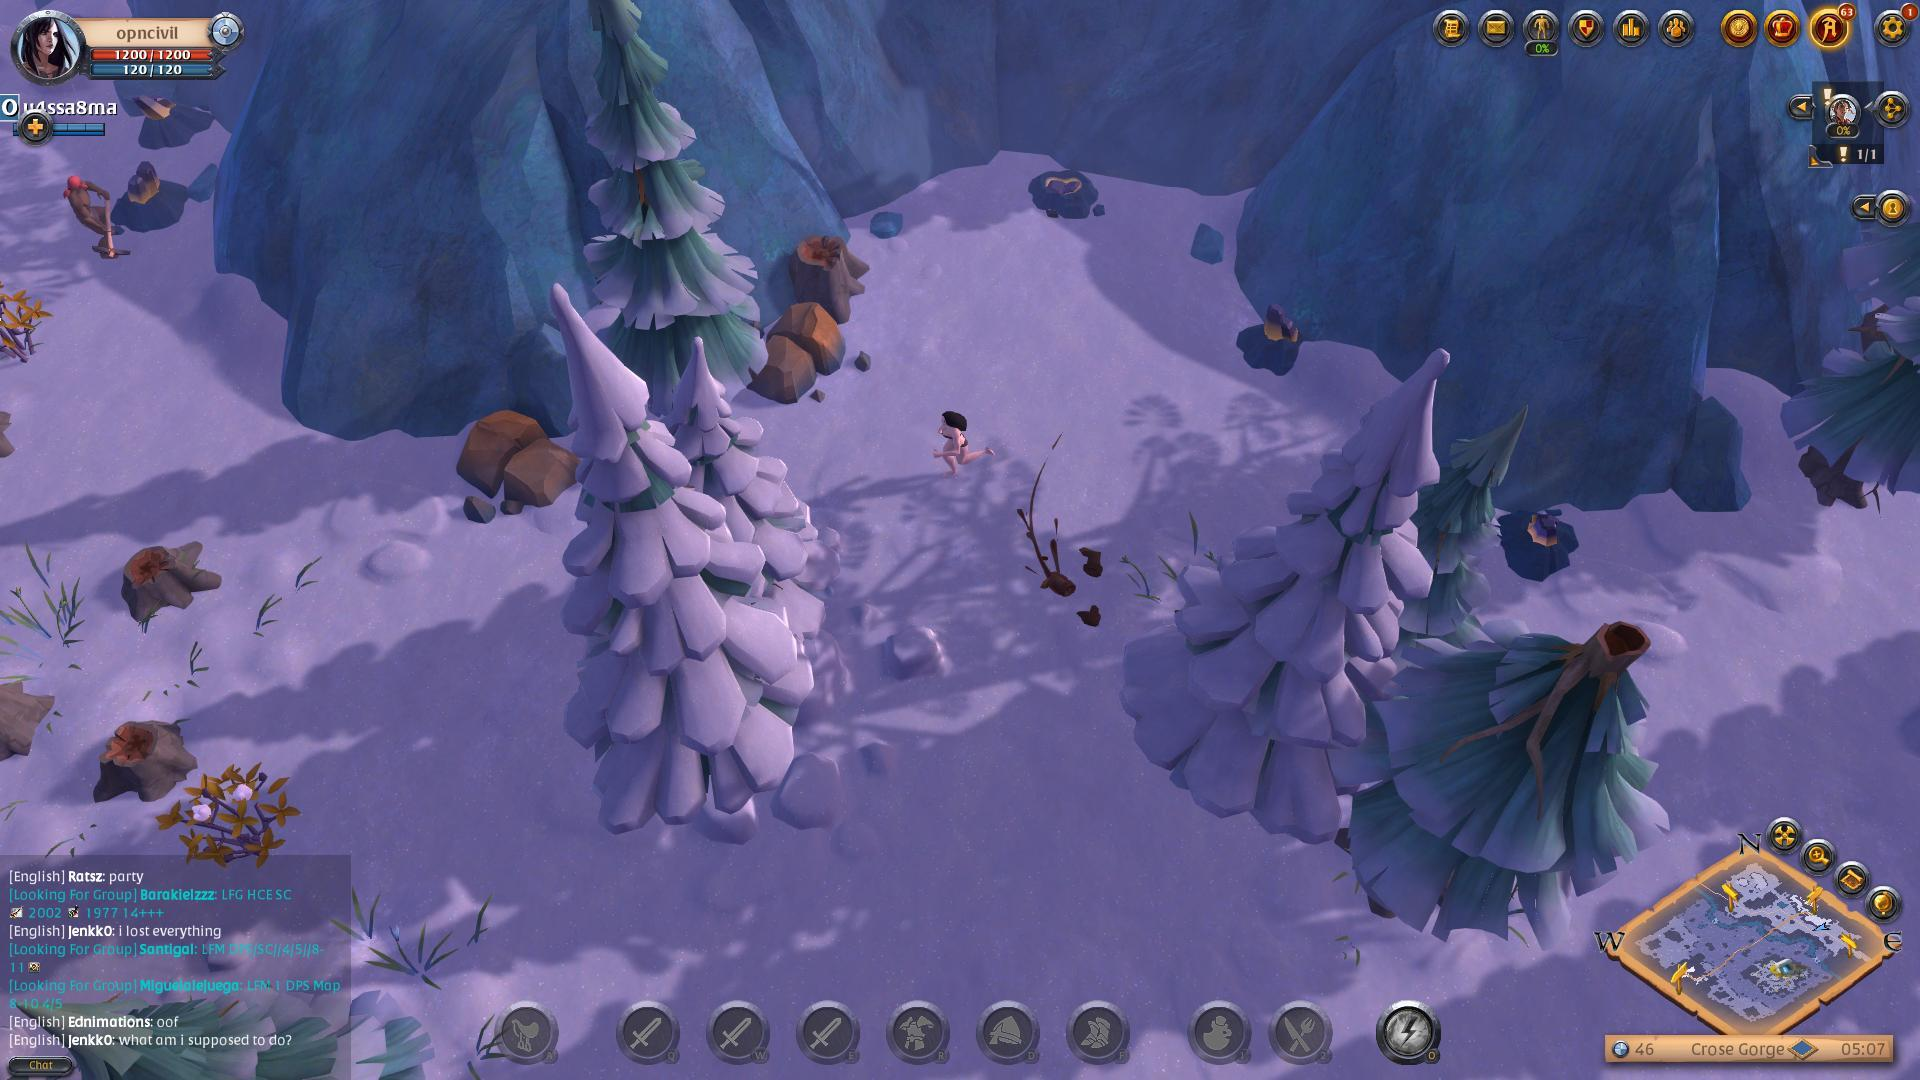copper_ore: (1497, 489, 1590, 584), (1207, 311, 1333, 381), (115, 154, 186, 233)
cotton: (166, 765, 316, 869), (0, 264, 65, 381)
limestone: (440, 413, 607, 529), (750, 297, 856, 406)
